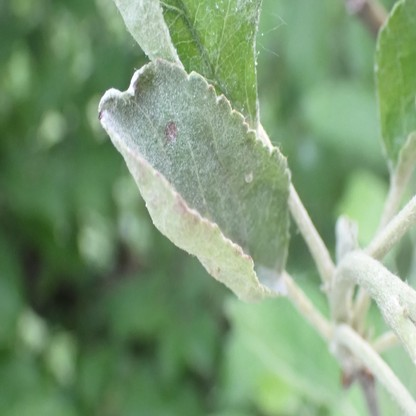powder: (97, 57, 292, 307), (114, 1, 260, 132)
